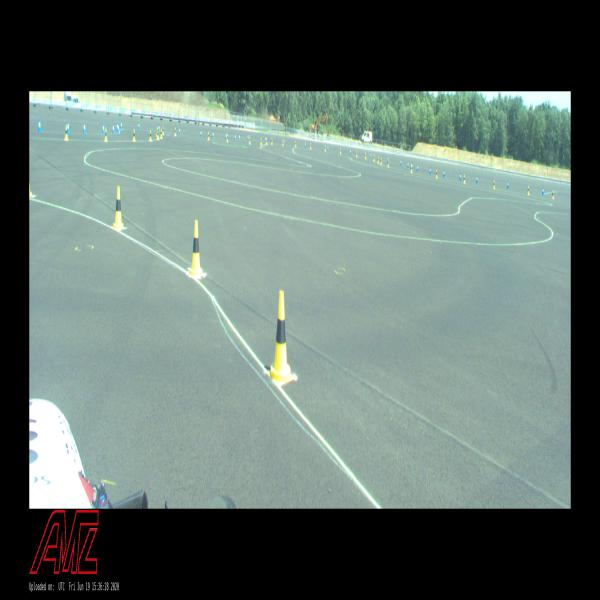blue_cone: (37, 118, 41, 132), (67, 120, 70, 134), (83, 122, 86, 134), (112, 123, 115, 134), (102, 123, 105, 134), (120, 121, 123, 129), (459, 173, 462, 180), (118, 123, 120, 133), (116, 122, 118, 132), (138, 122, 140, 130), (507, 180, 509, 188), (200, 129, 202, 137), (429, 167, 431, 175), (542, 187, 544, 195), (476, 176, 478, 184), (234, 133, 236, 140), (212, 131, 214, 138), (400, 159, 402, 166), (158, 125, 160, 132), (411, 163, 413, 170), (370, 153, 372, 159), (247, 134, 249, 140), (407, 162, 409, 168), (327, 146, 329, 152), (283, 139, 285, 145), (387, 157, 389, 163), (226, 132, 227, 140), (443, 170, 444, 178), (417, 164, 418, 172), (350, 150, 351, 156), (179, 128, 180, 134), (239, 134, 240, 140), (305, 142, 306, 148), (265, 137, 266, 142)
yellow_cone: (268, 291, 294, 385), (190, 220, 204, 277), (113, 186, 124, 229), (64, 125, 69, 140), (104, 128, 108, 141), (132, 129, 136, 141), (149, 130, 152, 141), (527, 186, 530, 195), (174, 127, 177, 136), (435, 170, 438, 178), (207, 132, 210, 140), (157, 130, 159, 140), (156, 127, 158, 136), (410, 164, 412, 173), (552, 190, 554, 199), (160, 129, 162, 138), (493, 180, 495, 188), (464, 175, 466, 183), (249, 136, 251, 144), (162, 127, 164, 135), (226, 134, 228, 142), (380, 158, 382, 165), (387, 160, 389, 167), (373, 155, 375, 161), (260, 138, 262, 144), (377, 157, 379, 163), (282, 139, 284, 145), (271, 138, 273, 144), (365, 152, 366, 160), (325, 145, 326, 152), (340, 148, 341, 154), (295, 141, 296, 147), (356, 151, 357, 157), (310, 143, 311, 149), (266, 138, 267, 144)
